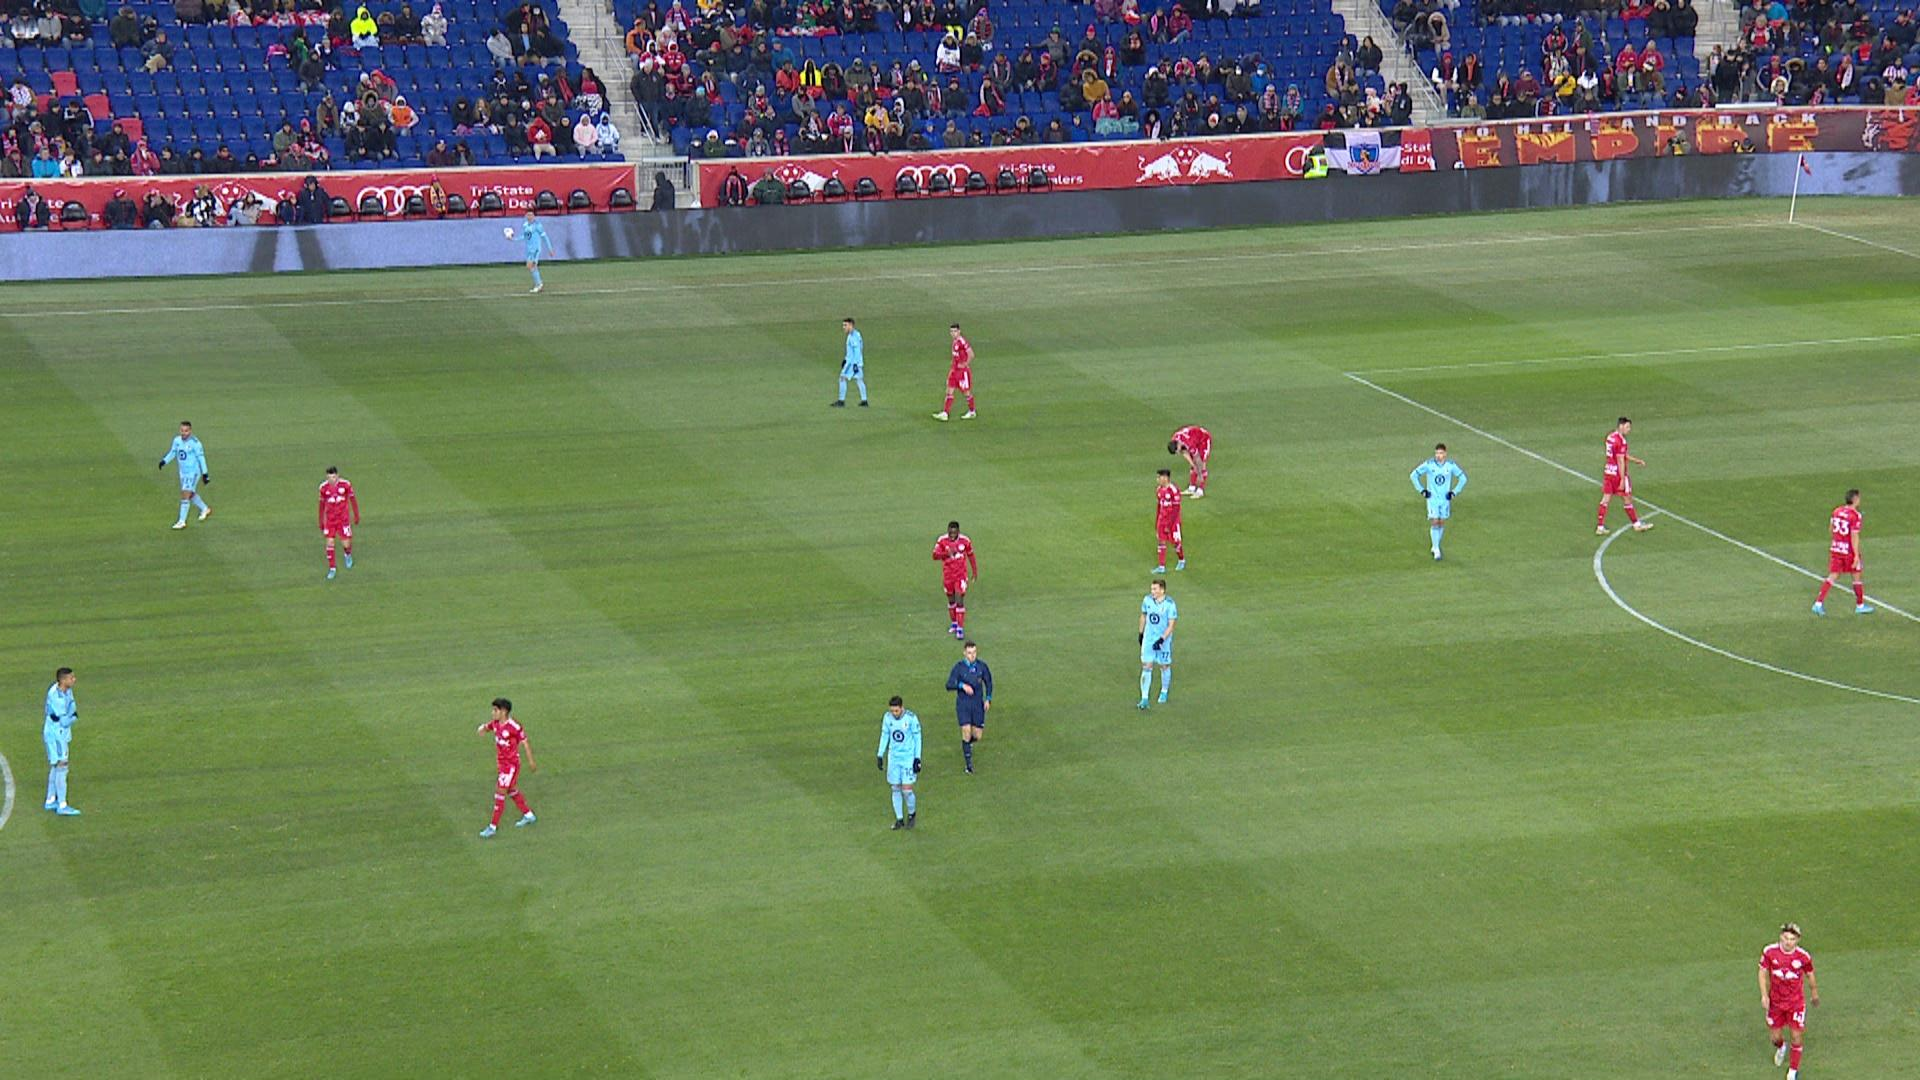football: (504, 227, 514, 237)
